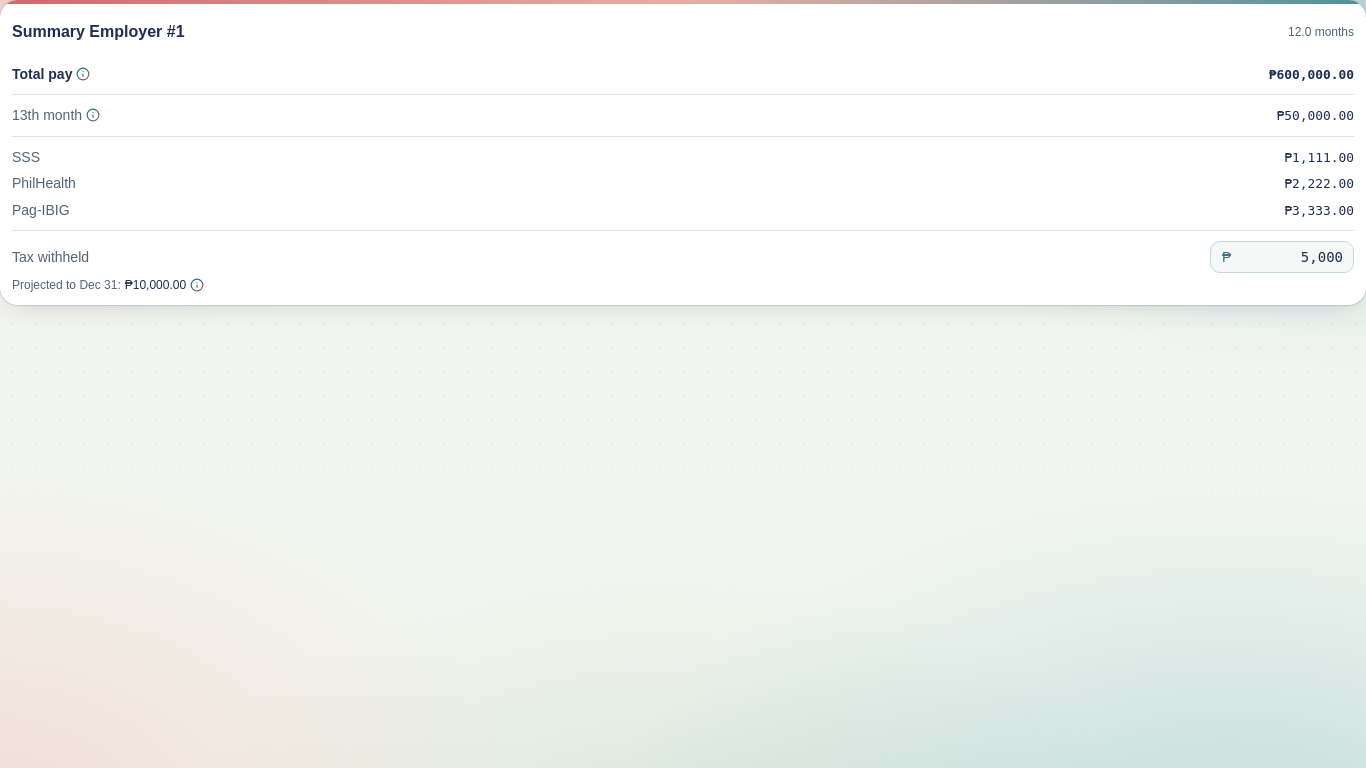
it: EmployerSummary: tax withheld › says in the tip how many months the typed figure covers
Step 1. Click the button named "More about the projected tax withheld" → (197, 285), box [190,278,204,292]
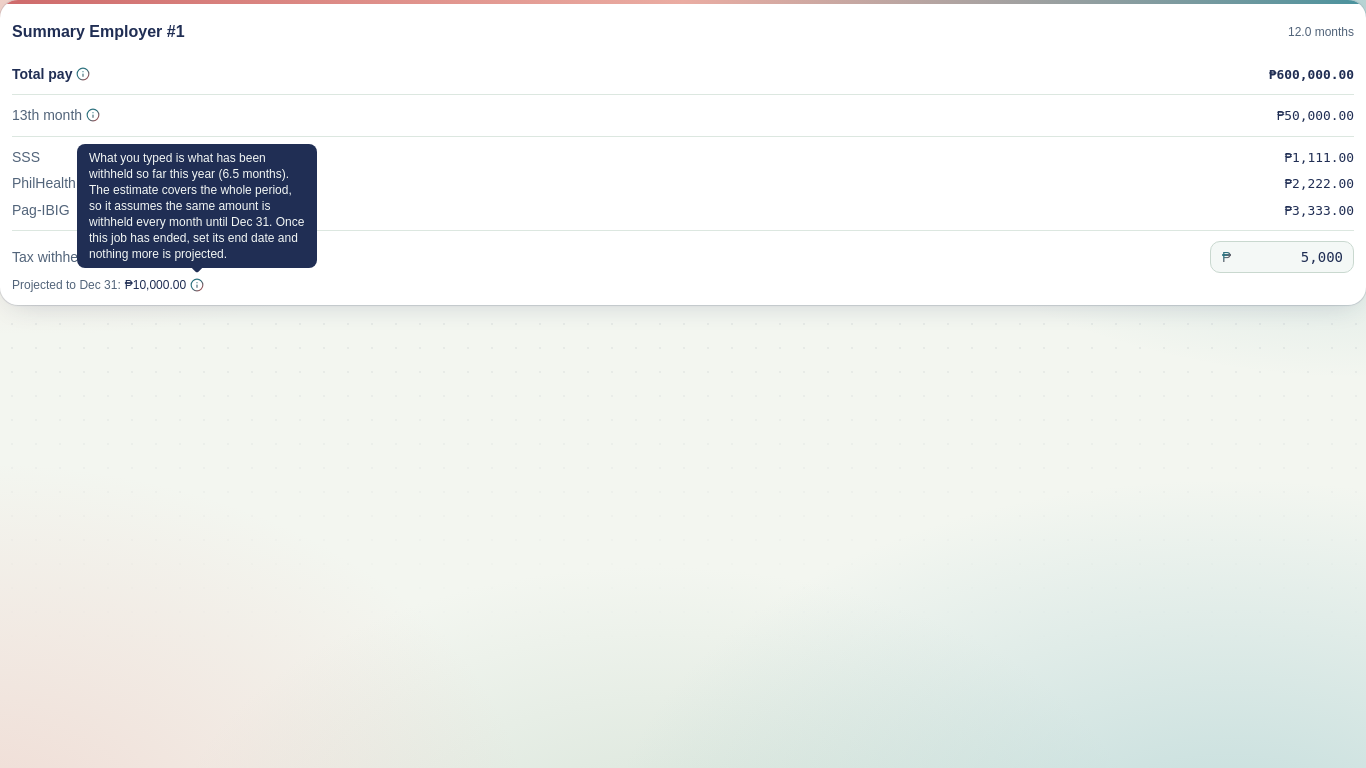
Expected: the tooltip "withheld so far this year (6.5 months)" is shown, [77,144,317,268]
